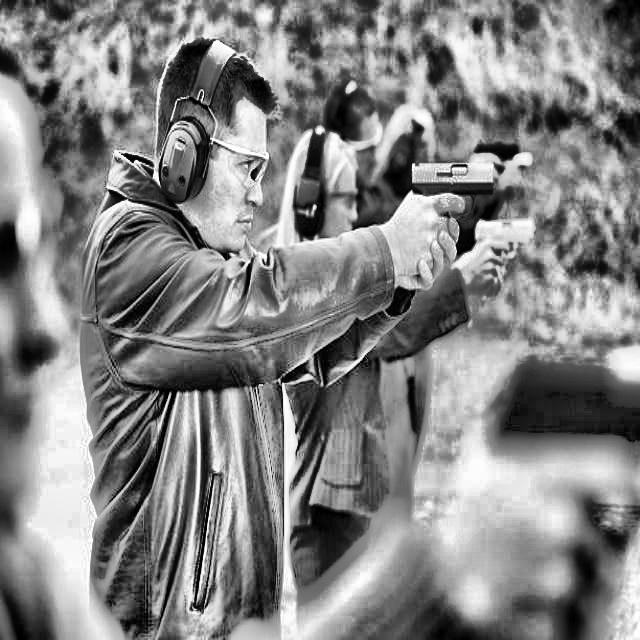pistol: (402, 153, 503, 247)
